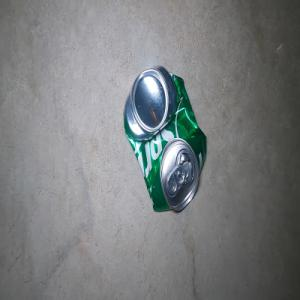SodaCan: (123, 64, 206, 211)
